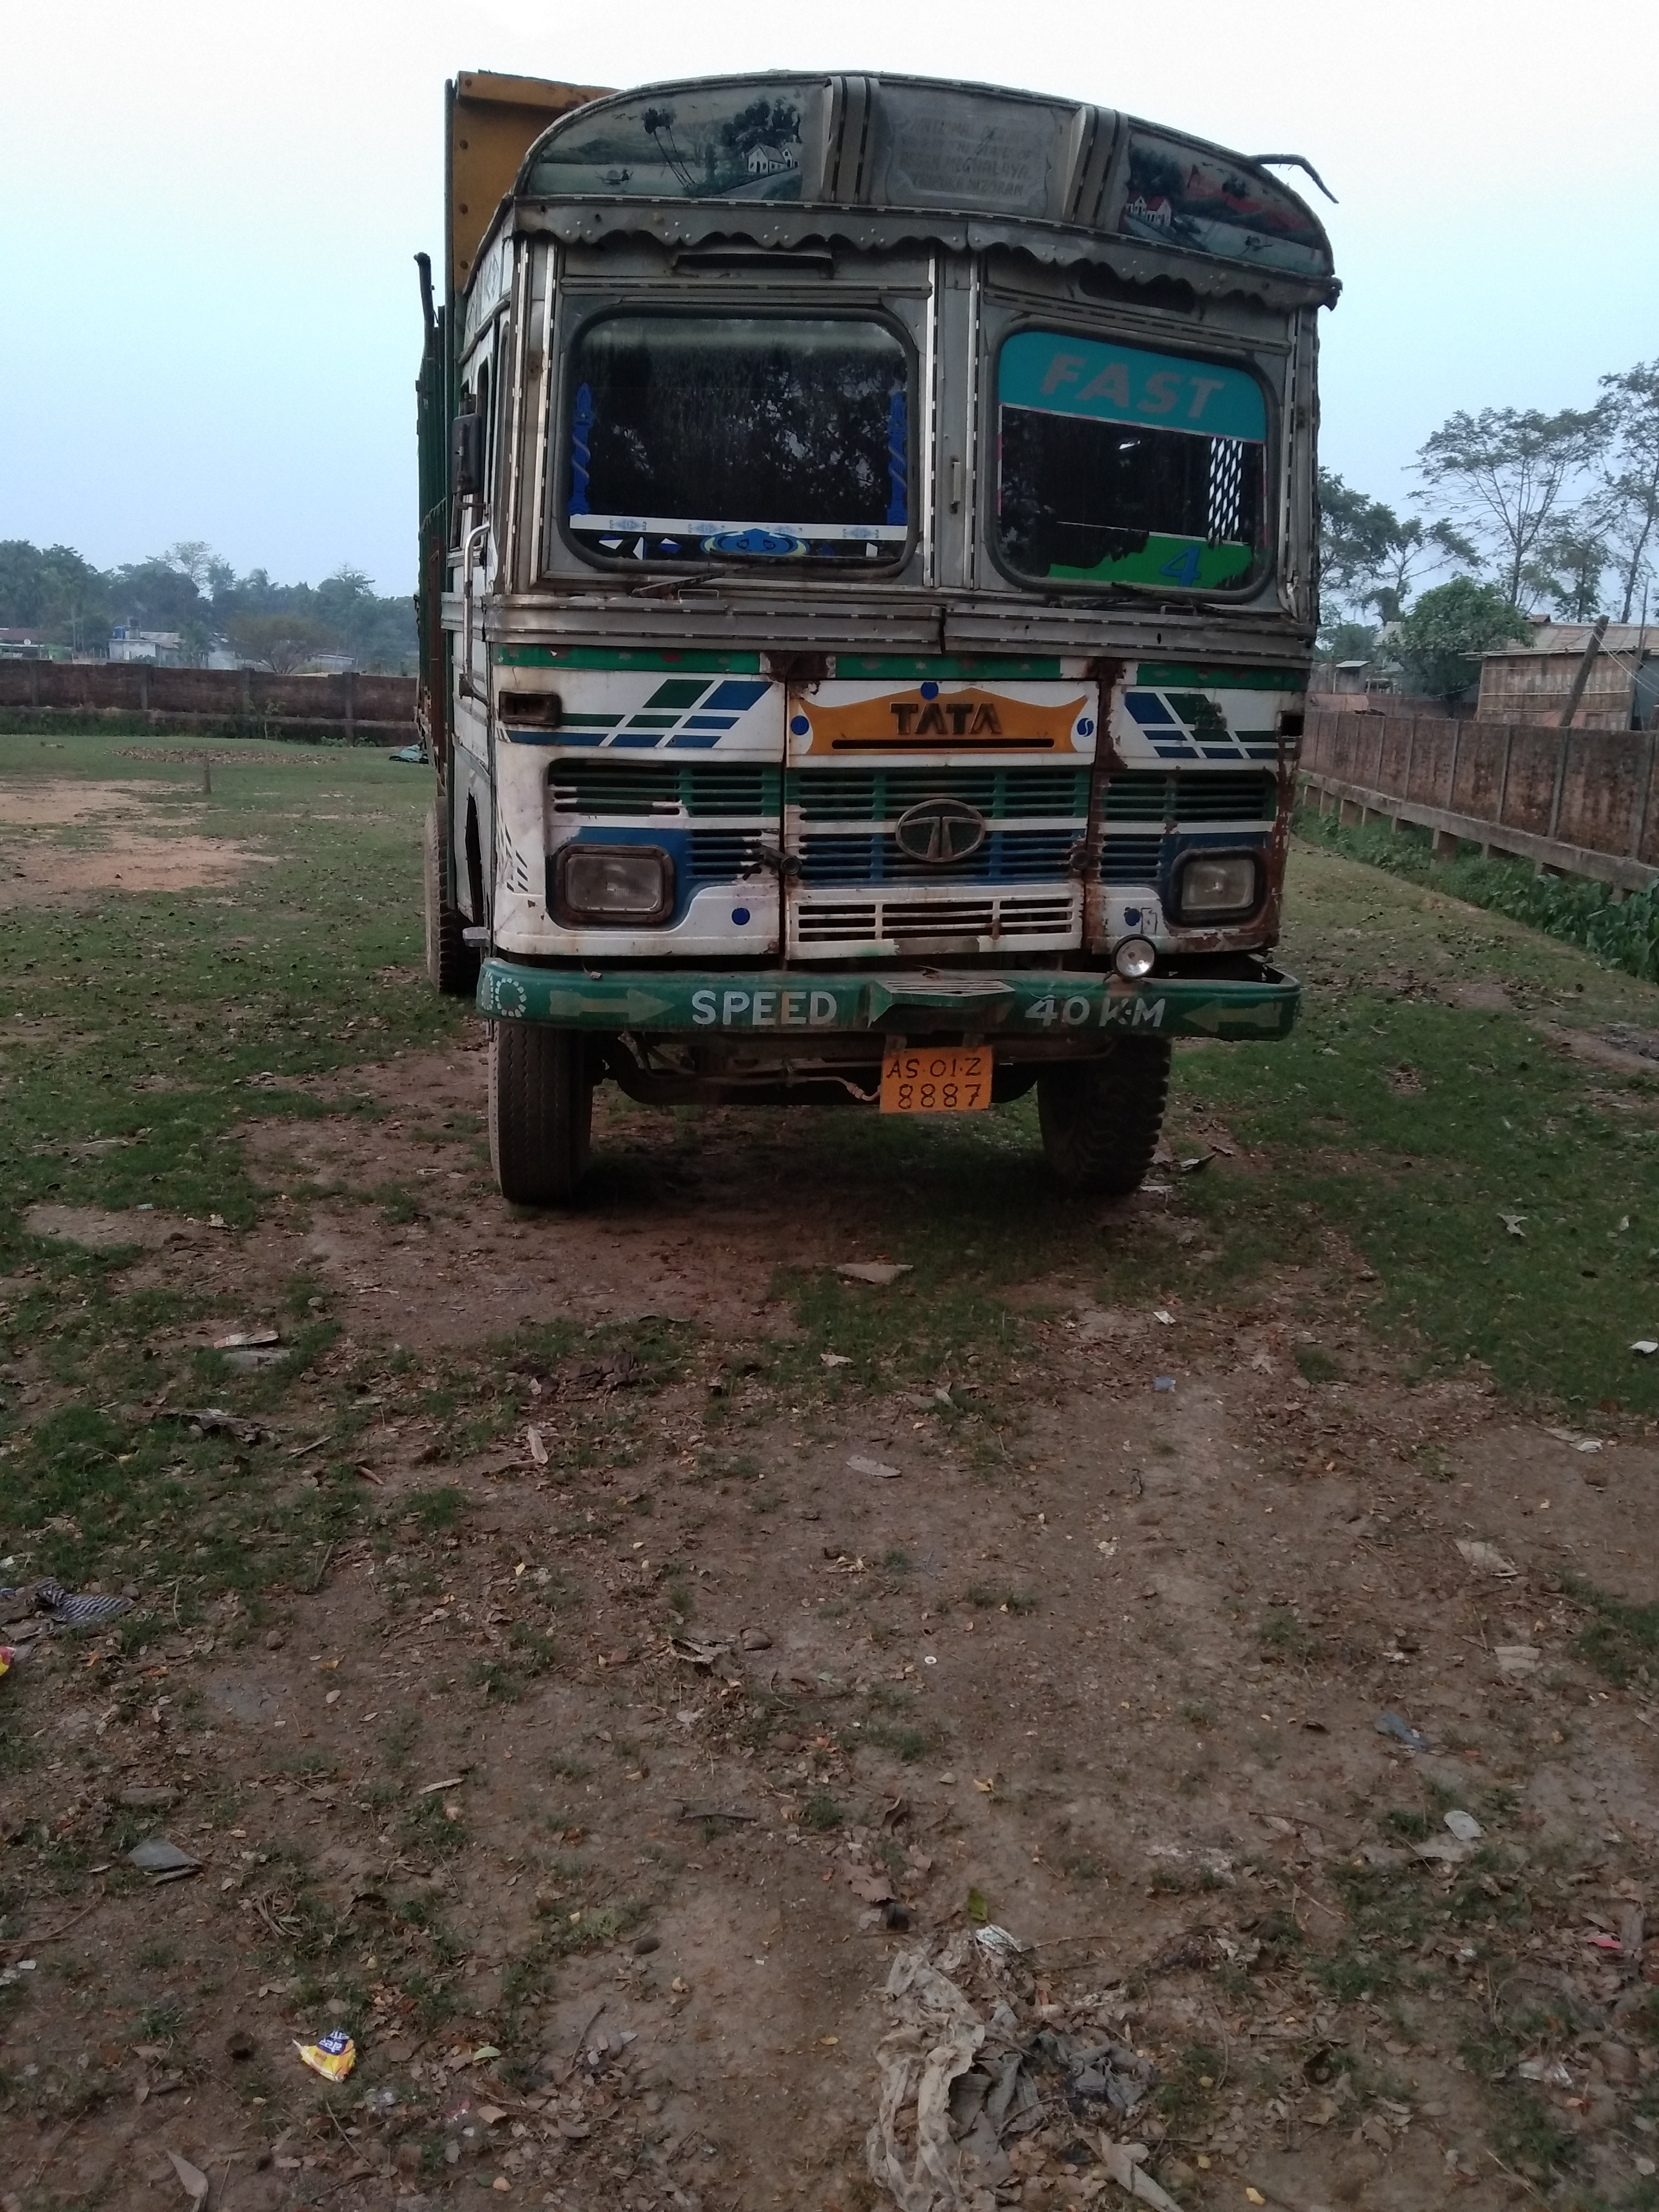truck: (410, 63, 1347, 1209)
